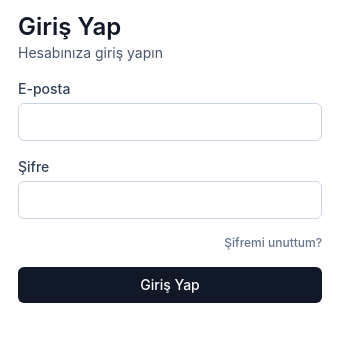
LoginForm › shows an error message when login fails
Type "user@example.com" into the field labelled "E-posta" at (170, 122), box [18,103,322,141]
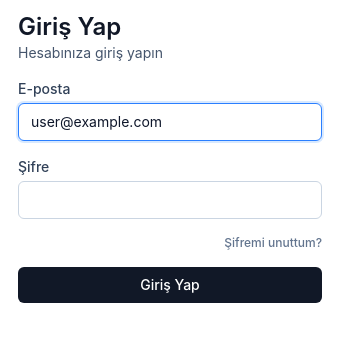
Type "wrongpassword" into the password field labelled "Şifre" at (170, 200), box [18,181,322,219]
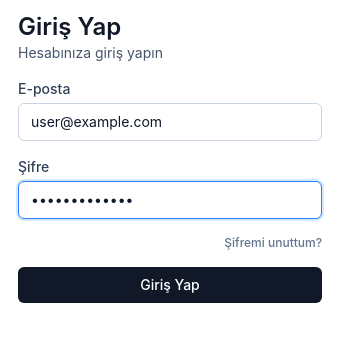
Click the button "Giriş Yap" at (170, 285), box [18,267,322,303]
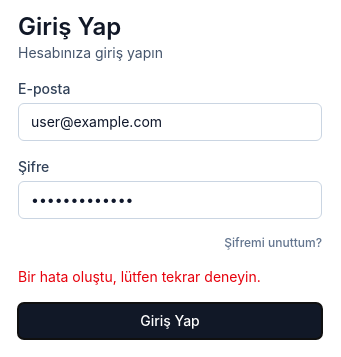
Expected: the text "Bir hata oluştu, lütfen tekrar deneyin." is shown, [18,268,261,285]
